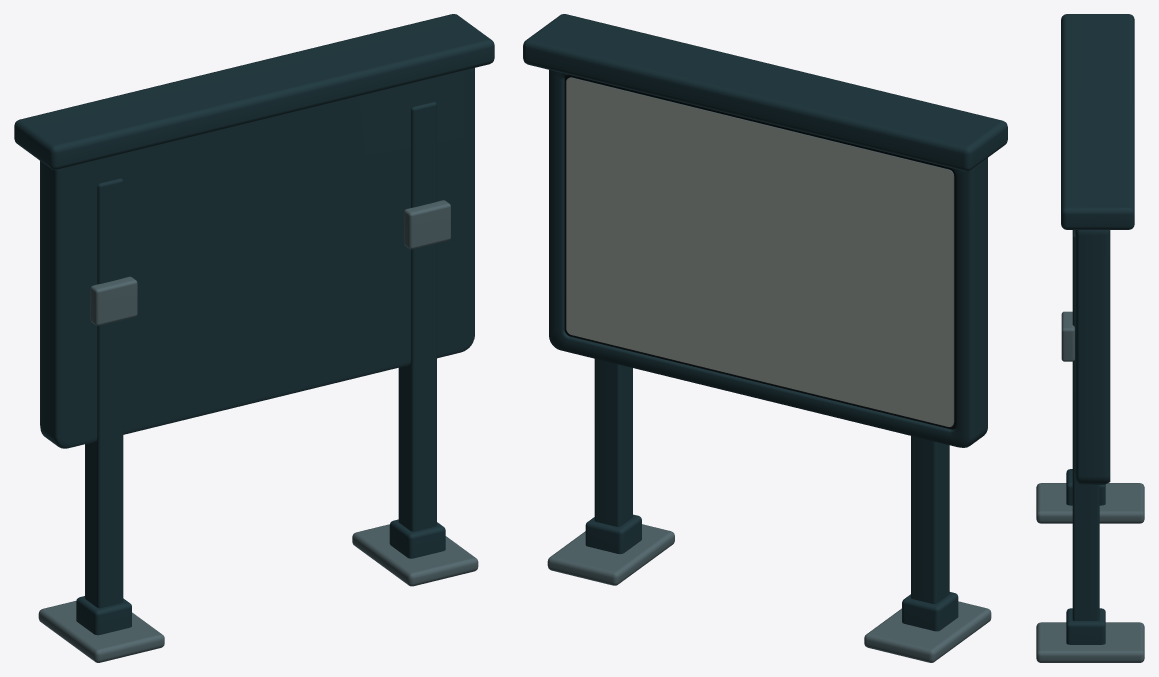
File: city_sign_supports_03.glb
3 views of the same model, side by side, from view 1: azimuth 30°, elevation 25°; view 2: azimuth 150°, elevation 25°; view 3: azimuth 270°, elevation 25° (orthographic). The views are drawn at different scales.
Visible parts, largest first — view 1: CitySignSupports03_Hardware; view 2: CitySignSupports03_ArtworkCarrier, CitySignSupports03_Hardware; view 3: CitySignSupports03_Hardware.
Boxes of the visible parts, box(x1,y1,x2,y2) form: CitySignSupports03_Hardware: box(14, 14, 494, 662); CitySignSupports03_ArtworkCarrier: box(566, 77, 954, 426); CitySignSupports03_Hardware: box(523, 14, 1007, 662); CitySignSupports03_Hardware: box(1036, 14, 1144, 662).
Bounding box in the file's own units: 1.9 × 2.1 × 0.44.
